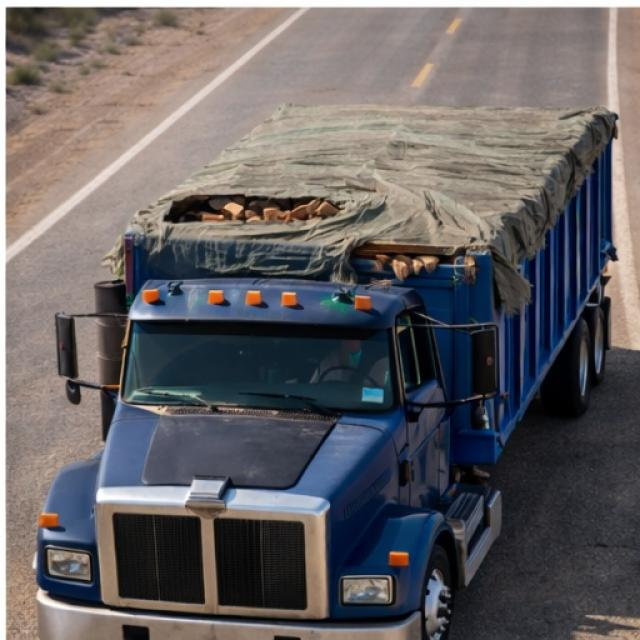trailer: (110, 96, 625, 264)
truck: (26, 76, 638, 632)
